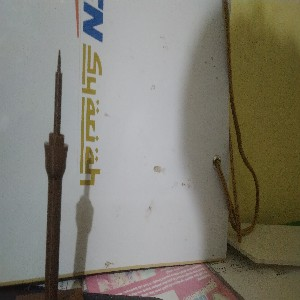solder: (43, 47, 69, 300)
